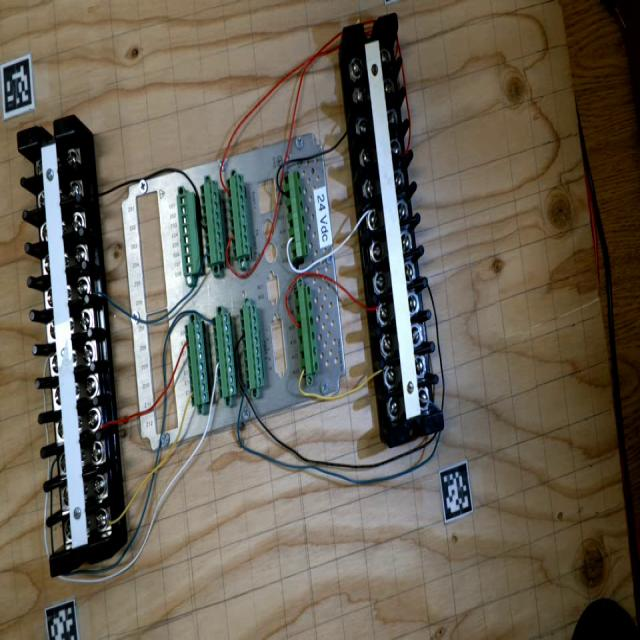Flathead_Block: (343, 13, 445, 447)
Phillips_Block: (16, 115, 111, 577)
Terminal_1: (293, 285, 319, 375), (283, 171, 309, 260)
Terminal_2: (184, 320, 210, 407), (200, 179, 225, 266), (212, 312, 237, 398), (239, 304, 264, 390), (226, 173, 251, 259)
